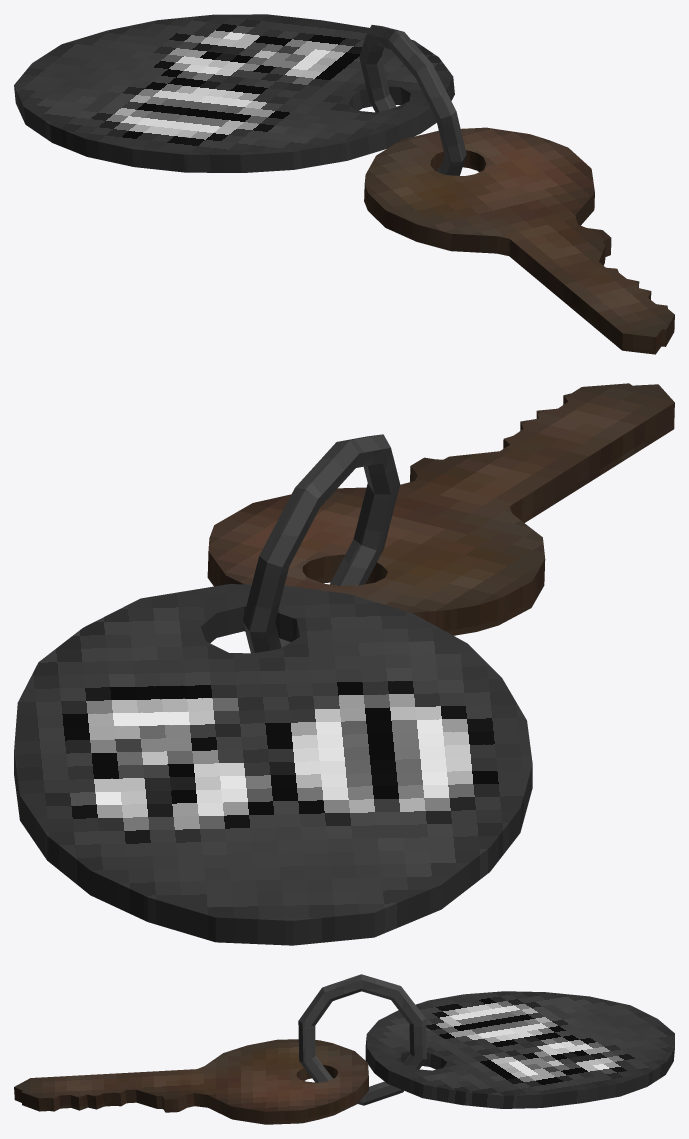
Rendered from key_mp_2_1.glb.
3 views of the same model, one above another, from view 1: azimuth 30°, elevation 25°; view 2: azimuth 150°, elevation 25°; view 3: azimuth 270°, elevation 25° (orthographic). The views are drawn at different scales.
Parts seen in each view (by area): view 1: key_mp_2_1; view 2: key_mp_2_1; view 3: key_mp_2_1.
Boxes of the visible parts, left/top/right/bottom form: key_mp_2_1: left=14, top=14, right=674, bottom=354; key_mp_2_1: left=14, top=383, right=674, bottom=945; key_mp_2_1: left=14, top=974, right=674, bottom=1124.
Bounding box in the file's own units: 0.0623 × 0.027 × 0.137.
1 material, 1 textured.
